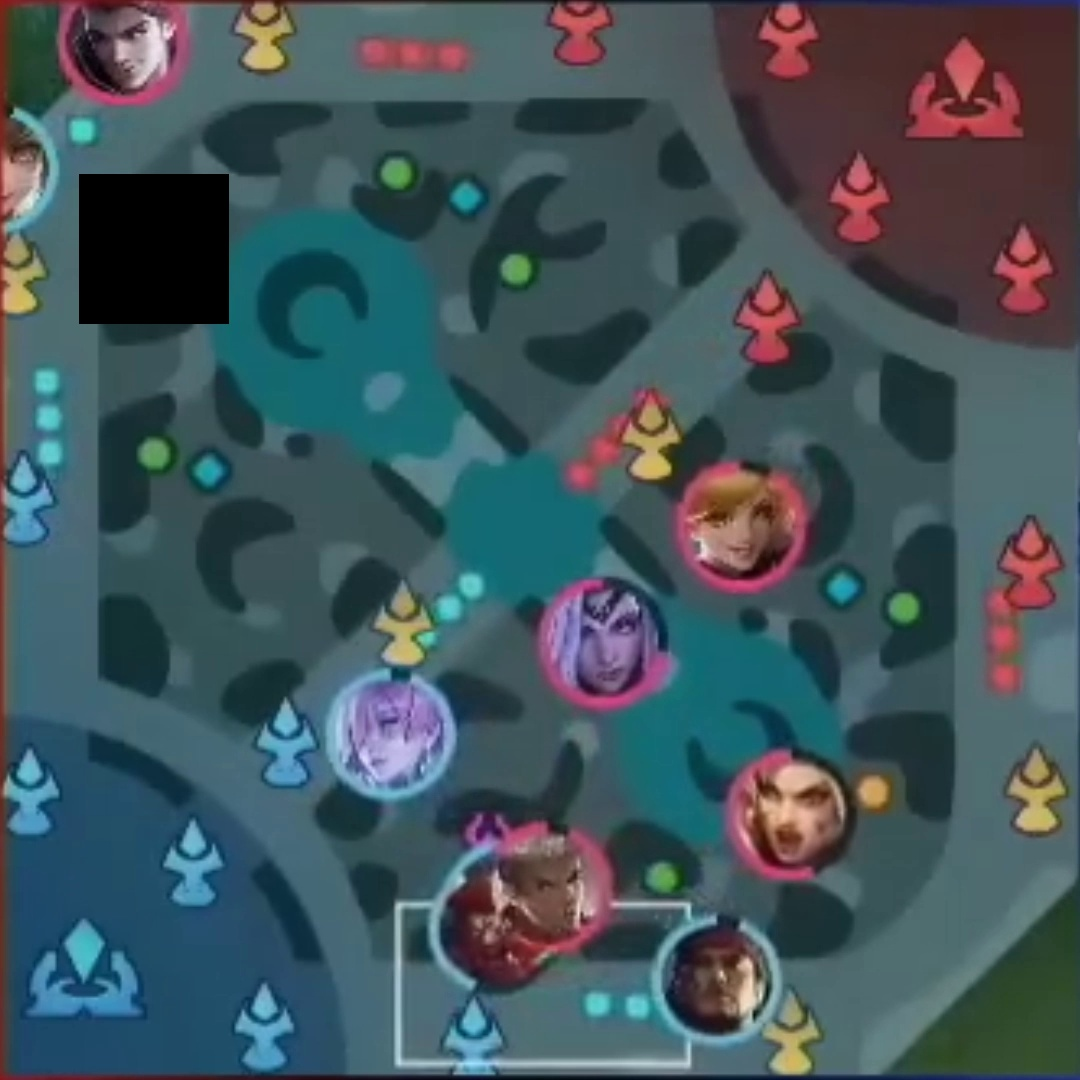Chou: (500, 834, 604, 943)
Claude: (64, 6, 187, 102)
Fanny: (691, 470, 787, 581)
Lapu-Lapu: (662, 915, 780, 1036)
Masha: (742, 753, 856, 877)
Minotaur: (447, 887, 541, 988)
Novaria: (336, 684, 450, 784)
Valentina: (551, 584, 656, 701)
Wanwan: (4, 110, 63, 234)
